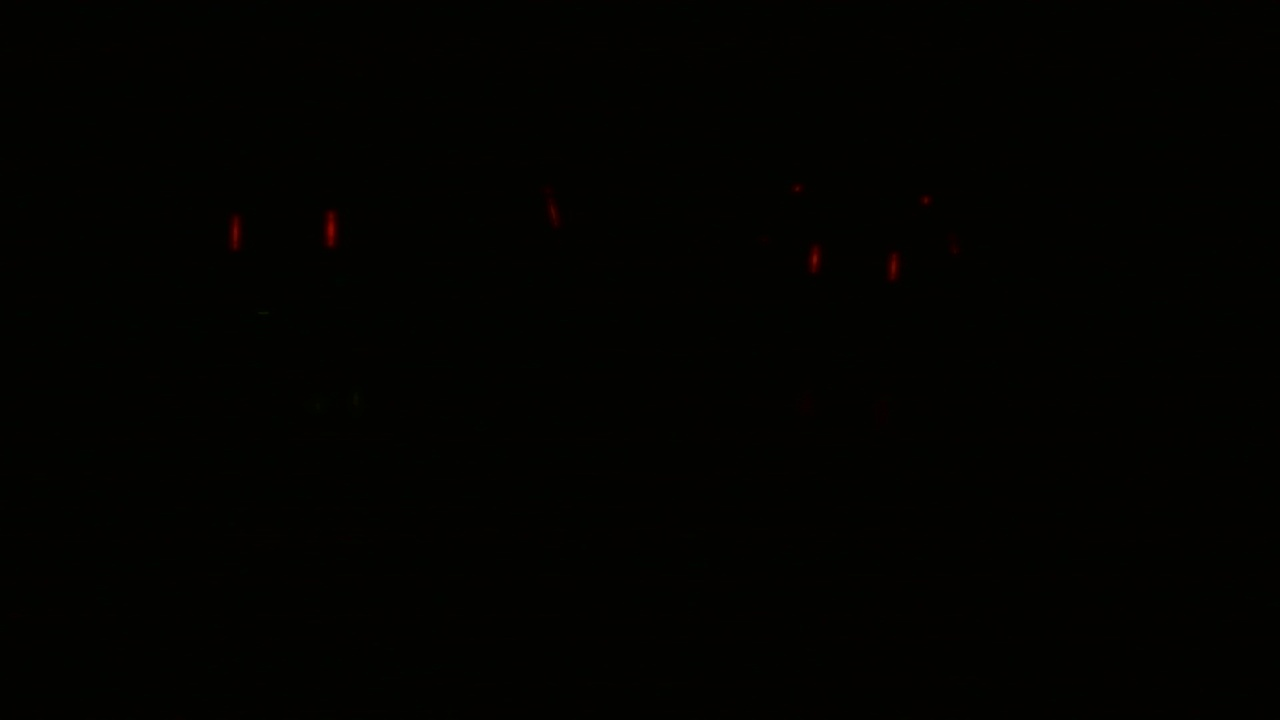pair1: (223, 204, 343, 259)
pair2: (797, 238, 912, 291)
